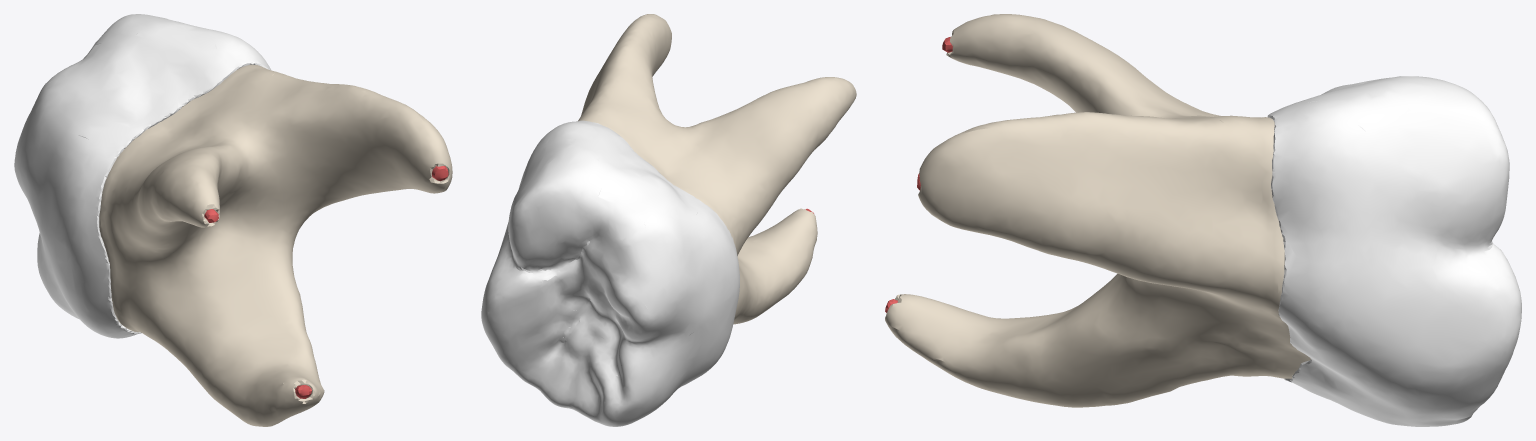
File: 乳牙上颌第二磨牙.fbx
3 renders of one model, left to right at view 1: azimuth 30°, elevation 25°; view 2: azimuth 150°, elevation 25°; view 3: azimuth 270°, elevation 25°, orthographic. The views are drawn at different scales.
Visible parts, largest first — view 1: texture_B, texture_W, texture_S; view 2: texture_W, texture_B; view 3: texture_B, texture_W.
Boxes of the visible parts, x1=… form: texture_B: x1=99, y1=64, x2=452, y2=426; texture_W: x1=14, y1=14, x2=271, y2=338; texture_S: x1=204, y1=166, x2=448, y2=398; texture_W: x1=481, y1=120, x2=739, y2=426; texture_B: x1=578, y1=14, x2=856, y2=324; texture_B: x1=885, y1=14, x2=1310, y2=407; texture_W: x1=1267, y1=76, x2=1521, y2=426.
Size of the model in its own units: 14.93 by 16.13 by 25.13.
Materials: 3 (3 with a texture image).
